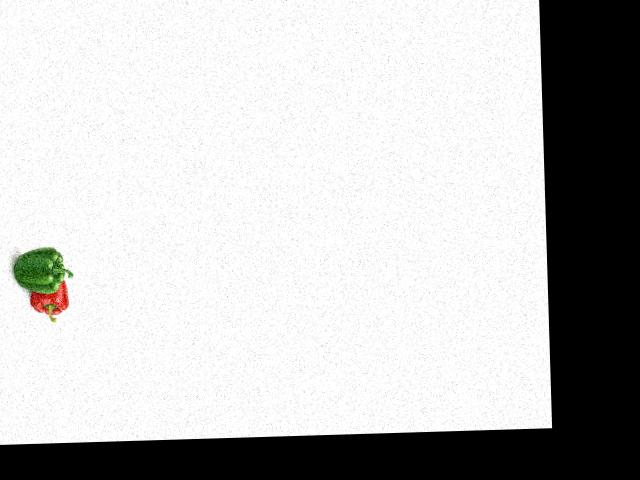bell_pepper: (31, 278, 74, 322)
